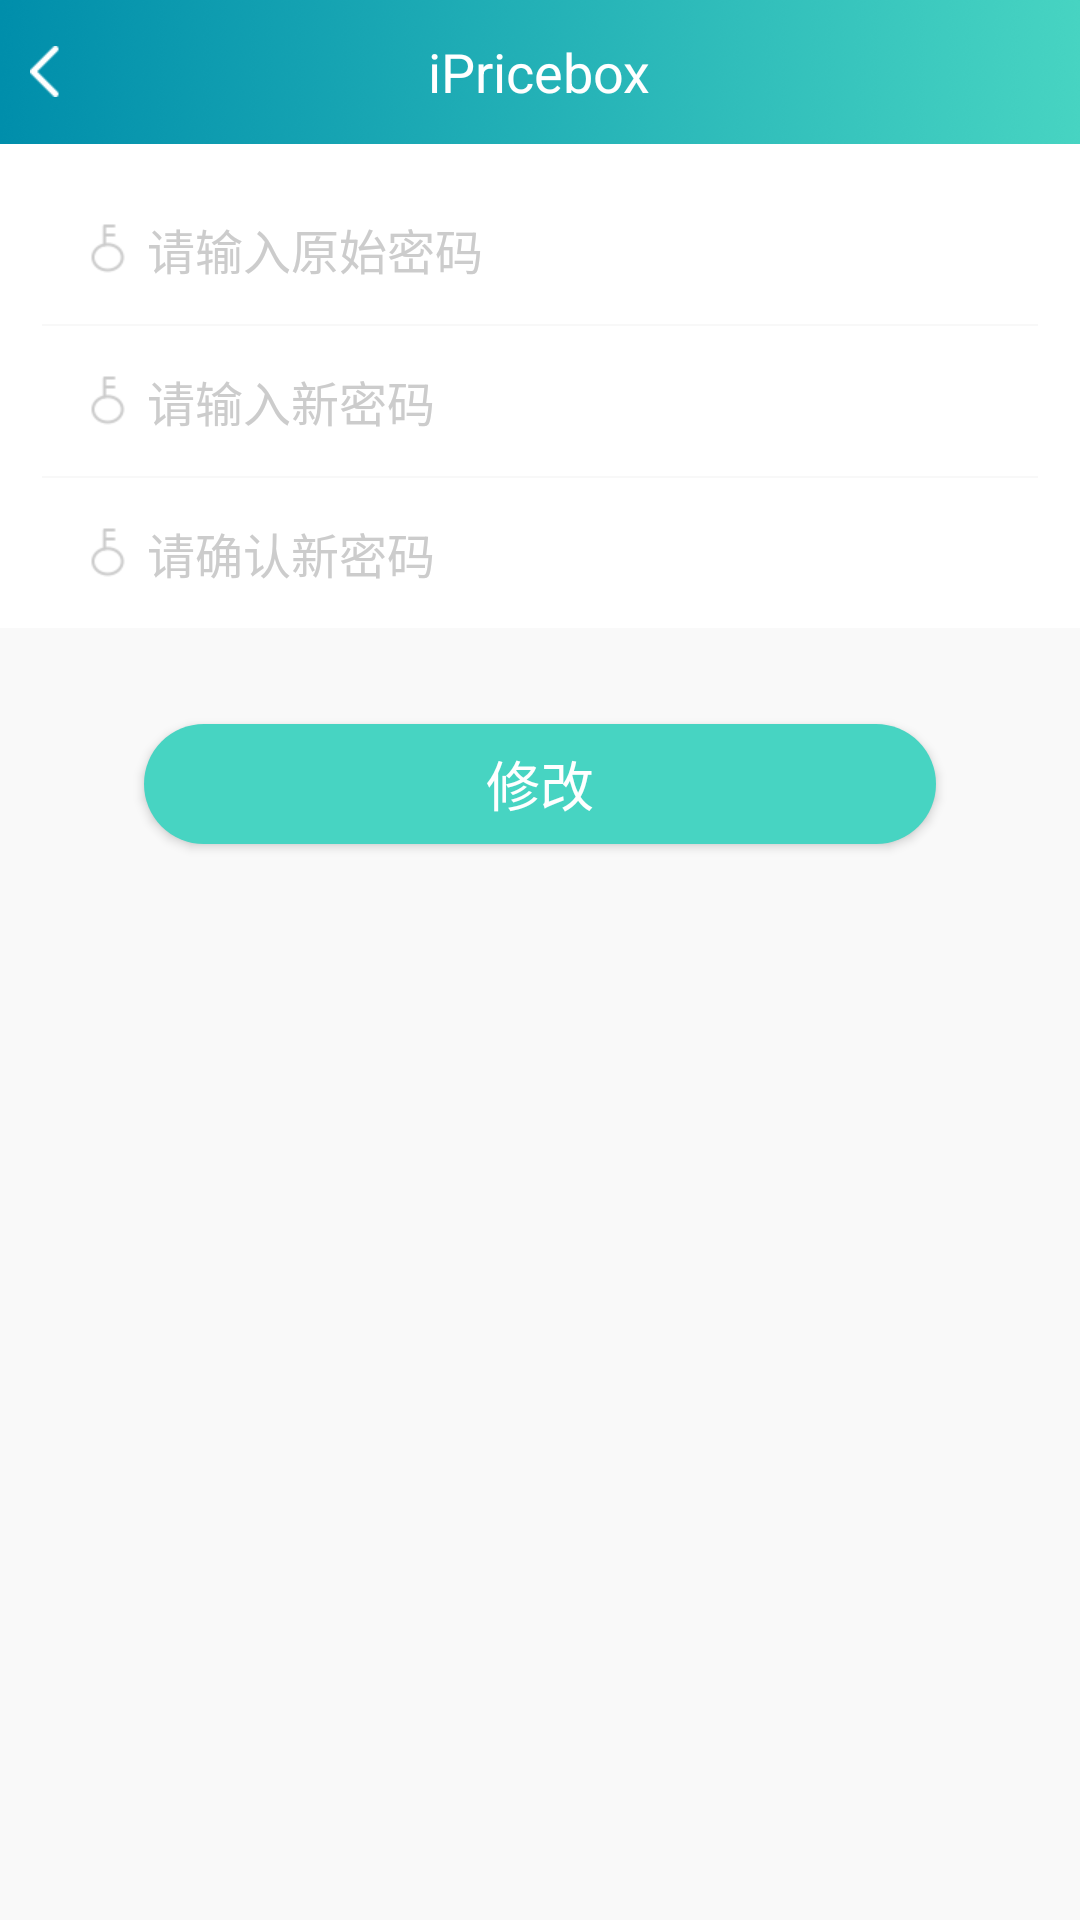

Icons on this 1080px x 1920px Android screen, each with its box as detection(x1, y1, x2, y2):
back: detection(30, 46, 59, 97)
